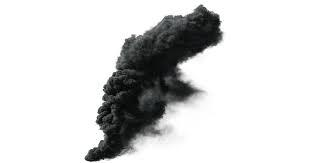Smoke: (85, 5, 226, 161)
